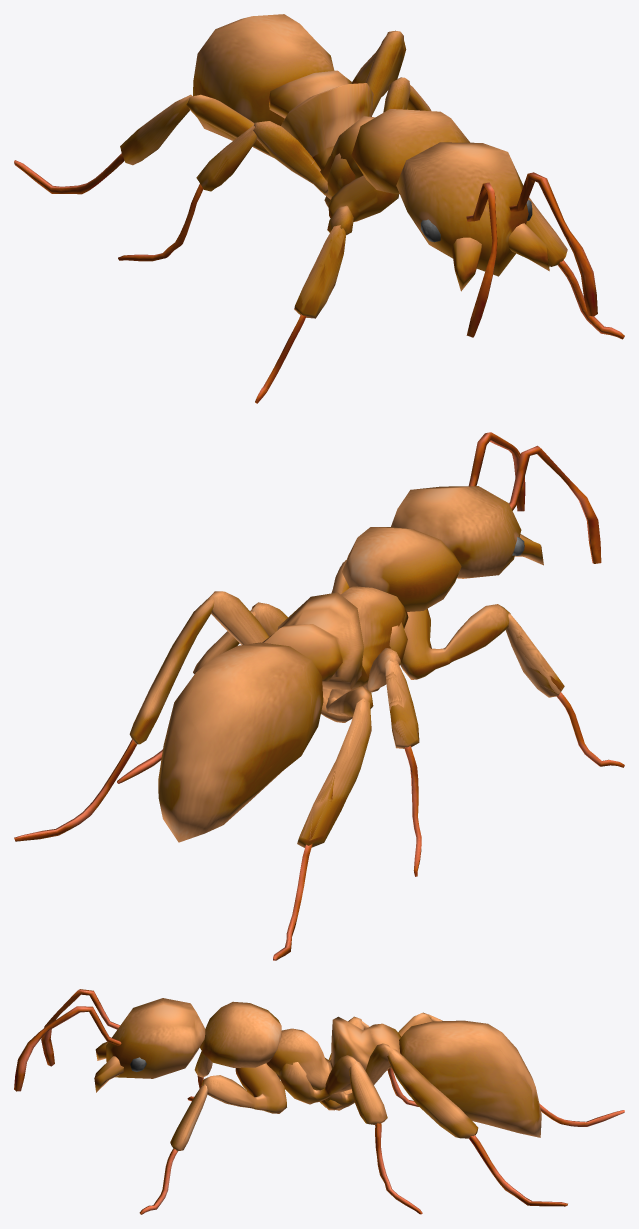
The model's file is Ant1.fbx.
3 views of the same model, one above another, from view 1: azimuth 30°, elevation 25°; view 2: azimuth 150°, elevation 25°; view 3: azimuth 270°, elevation 25° (orthographic). The views are drawn at different scales.
Parts seen in each view (by area): view 1: Ant1:Cube.005; view 2: Ant1:Cube.005; view 3: Ant1:Cube.005.
Boxes of the visible parts, <box> form: Ant1:Cube.005: <box>14,14,624,403</box>; Ant1:Cube.005: <box>14,432,624,960</box>; Ant1:Cube.005: <box>14,989,624,1214</box>.
Size of the model in its own units: 513 by 321 by 1037.
1 material, 1 textured.
